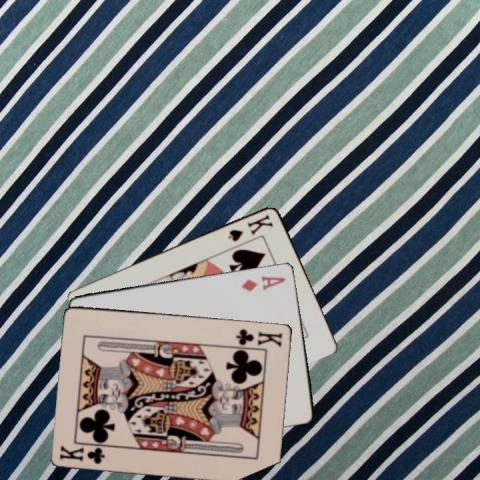Ad: (238, 272, 287, 293)
Kc: (233, 325, 283, 348), (57, 442, 106, 465)
Ks: (224, 211, 274, 243)
